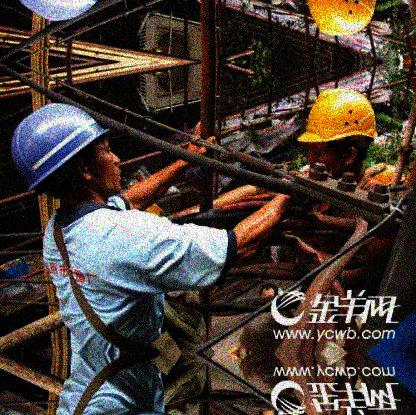helmet: (9, 102, 126, 210), (300, 88, 381, 178)
